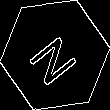N_NE: (25, 24, 85, 86)
